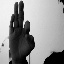f: (7, 1, 36, 59)
